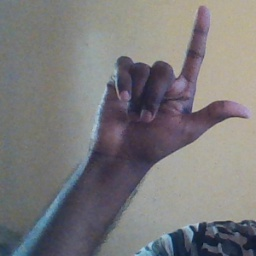L: (94, 4, 251, 164)
